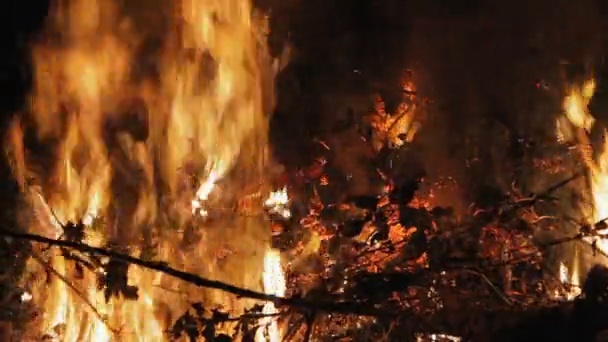fire: (12, 3, 289, 342), (554, 85, 598, 135), (589, 137, 608, 248), (558, 258, 581, 299)
